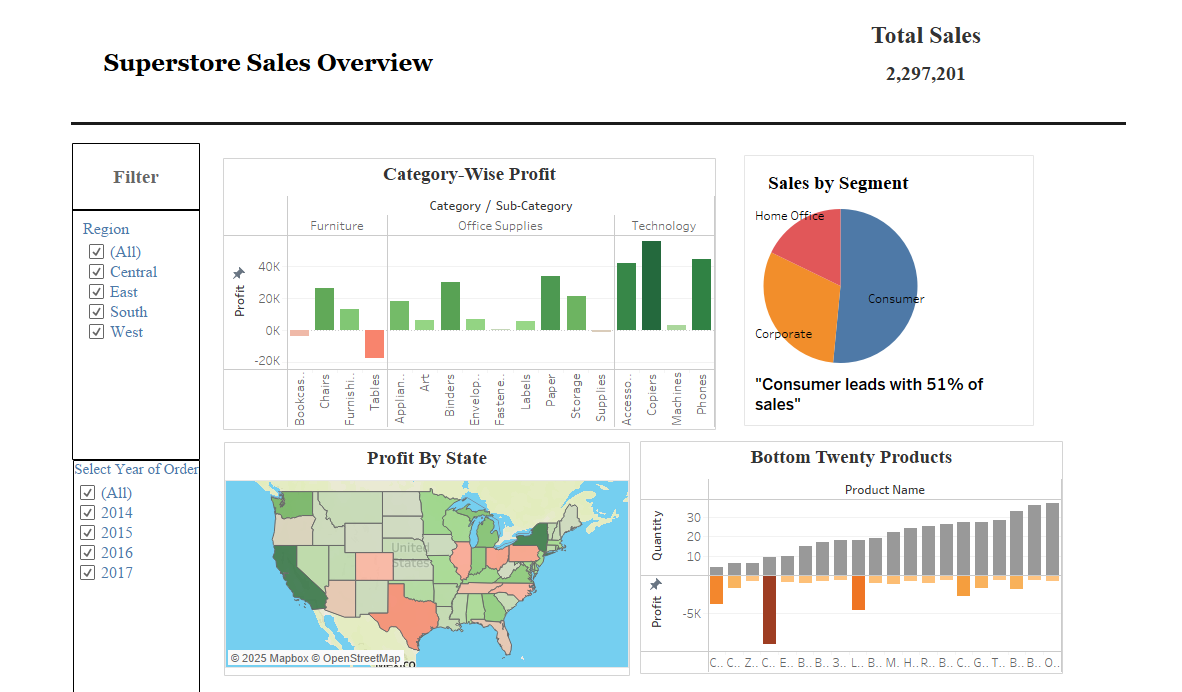

The page's visual inventory and layout, read from the dashboard file:
{"tool":"tableau","page":{"name":"Dashboard 1","canvas":[1000,1000],"units":"permille","ordinal":0},"visuals":[{"type":"text","box":[15.2,16.5,417.1,150.5]},{"type":"worksheet","title":"Total Sales","mark":"Automatic","box":[717.1,29.4,220,135.8]},{"type":"text","box":[0,207.3,121.7,97.2]},{"type":"worksheet","title":"Customer Segmentation","mark":"Pie","box":[633.9,216.5,287.8,405.5]},{"type":"worksheet","title":"Category-wise Profit","mark":"Bar","rows":["Profit"],"cols":["Category","Sub-Category"],"box":[143.5,229.4,469.6,389]},{"type":"filter","title":"Profit By State","param":"[federated.08n6ura1pi40c11bg6uty02crj68].[none:Region:nk]","box":[0,302.8,121.7,359.6]},{"type":"worksheet","title":"Bottom Twenty Product","mark":"Automatic","rows":["Quantity","Profit"],"cols":["Product Name"],"box":[540.9,634.9,402.6,333.9]},{"type":"worksheet","title":"Profit By State","mark":"Automatic","box":[145.2,636.7,387,335.8]}]}

Visuals, with their boxes on the dashboard's canvas, which has no fixed pixel size, in thousandths of its width and height (x1, y1, x2, y2). These are canvas units, not pixel positions in the 1182x692 screenshot, which may show the page scaled, cropped or inside an application window:
text: (15, 16, 432, 167)
"Total Sales" worksheet: (717, 29, 937, 165)
text: (0, 207, 122, 304)
"Customer Segmentation" worksheet (Pie marks): (634, 216, 922, 622)
"Category-wise Profit" worksheet (Bar marks): (144, 229, 613, 618)
"Profit By State" filter: (0, 303, 122, 662)
"Bottom Twenty Product" worksheet: (541, 635, 944, 969)
"Profit By State" worksheet: (145, 637, 532, 972)
